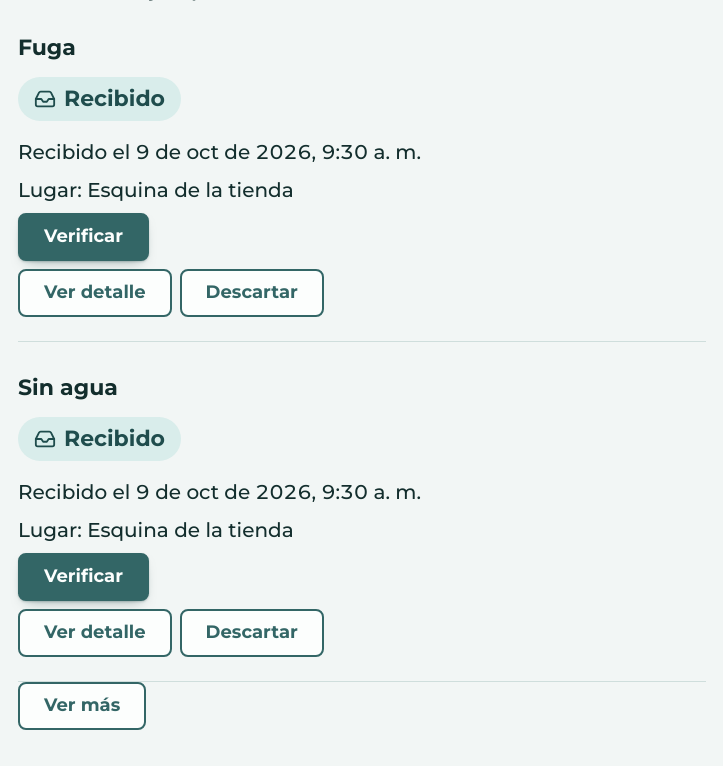
Test: IncidentsPage (S21, board) › loads the next page with "Ver más" until there are no more
This screenshot has width=723, height=766.
(page scrolled)
expect the heading "Fuga" is shown: met, box [18,34,76,61]
Click the button "Ver más" at [82, 706], box [18,682,146,730]
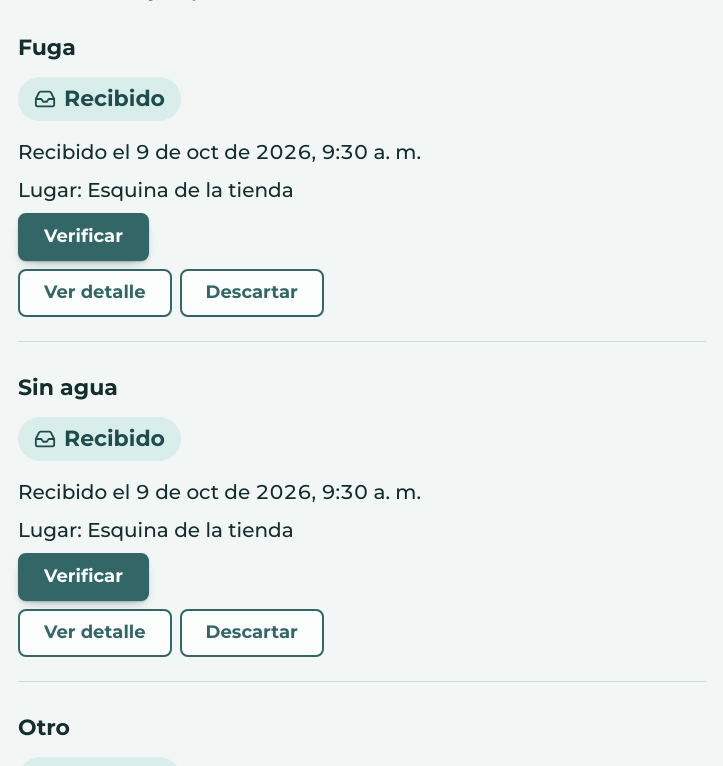
expect the heading "Otro" is shown: met, box [18,714,70,741]
expect the button "Ver más" is gone: met
